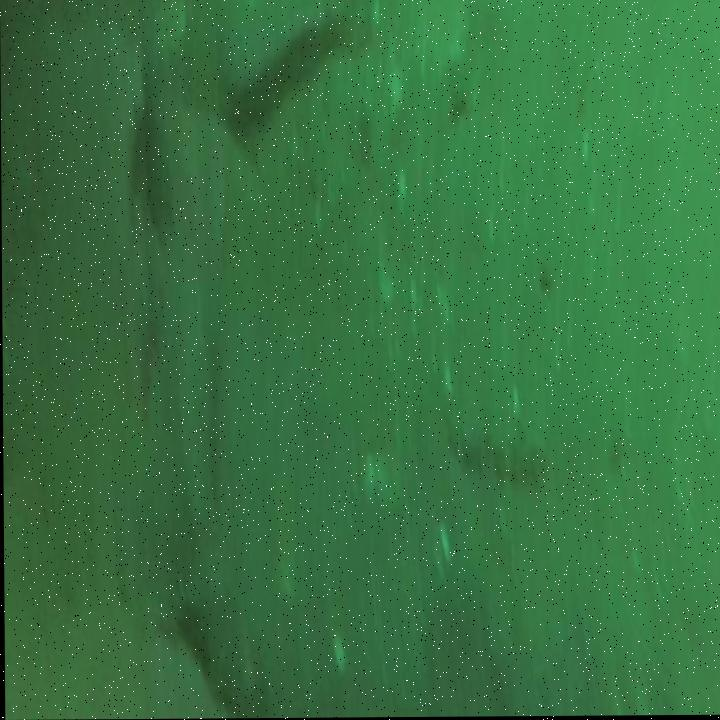holothurian: (437, 391, 556, 495)
